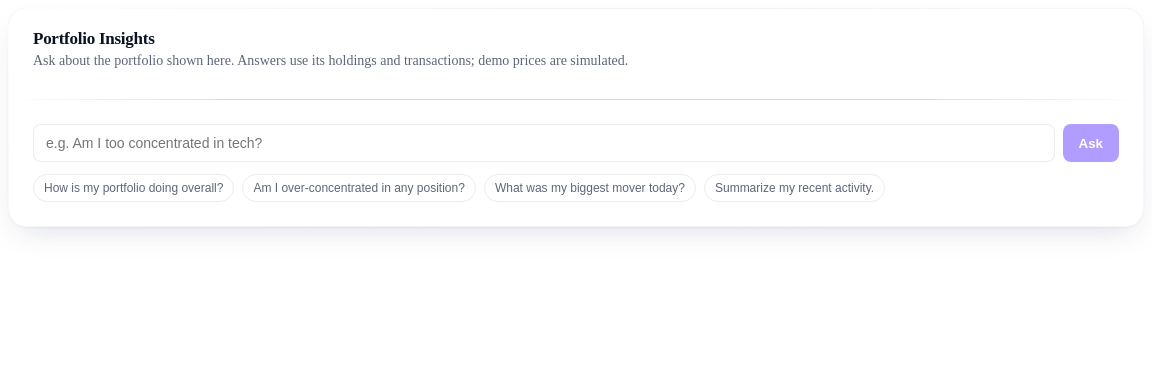
Test case: InsightsPanel › shows a cited answer and records the question in history
In the field named "Ask about your portfolio": (544, 143) [33,124,1054,162], type "Too much tech?"
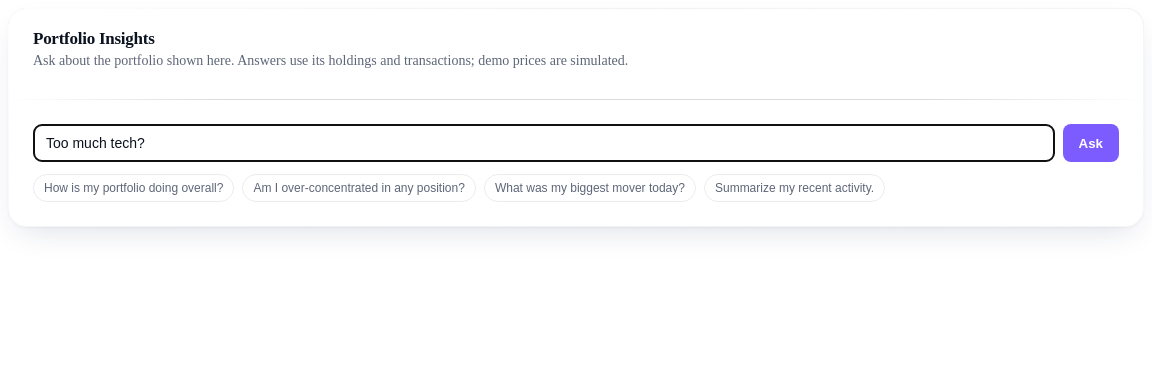
Click the button "Ask": (1091, 143) [1062,124,1119,162]
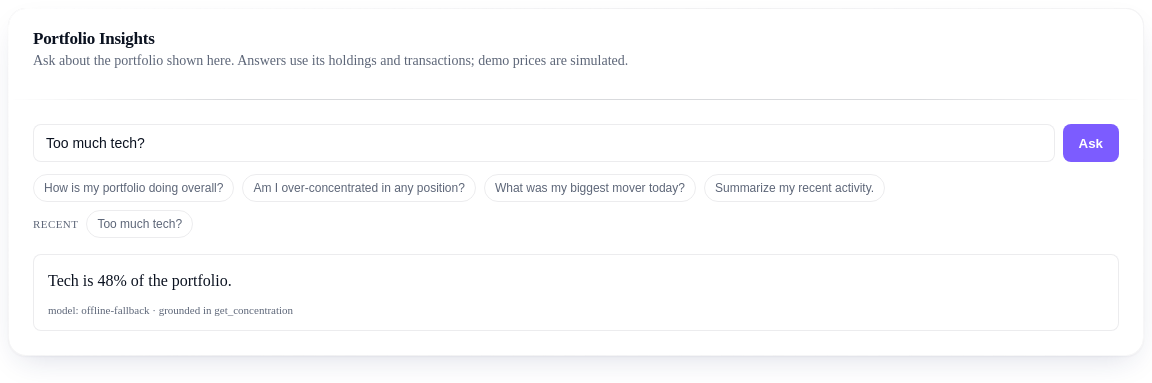
Expected: the text "Tech is 48% of the portfolio." is shown, [48,272,232,289]
Expected: the text "model: offline-fallback · grounded in get_concentration" is shown, [48,304,293,316]
Expected: the button "Too much tech?" is shown, [86,210,193,238]
